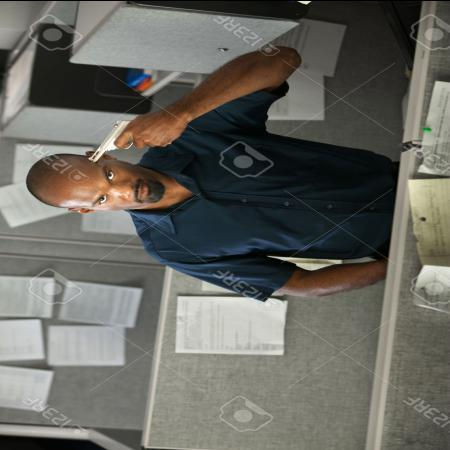Pistol: (79, 116, 182, 166)
